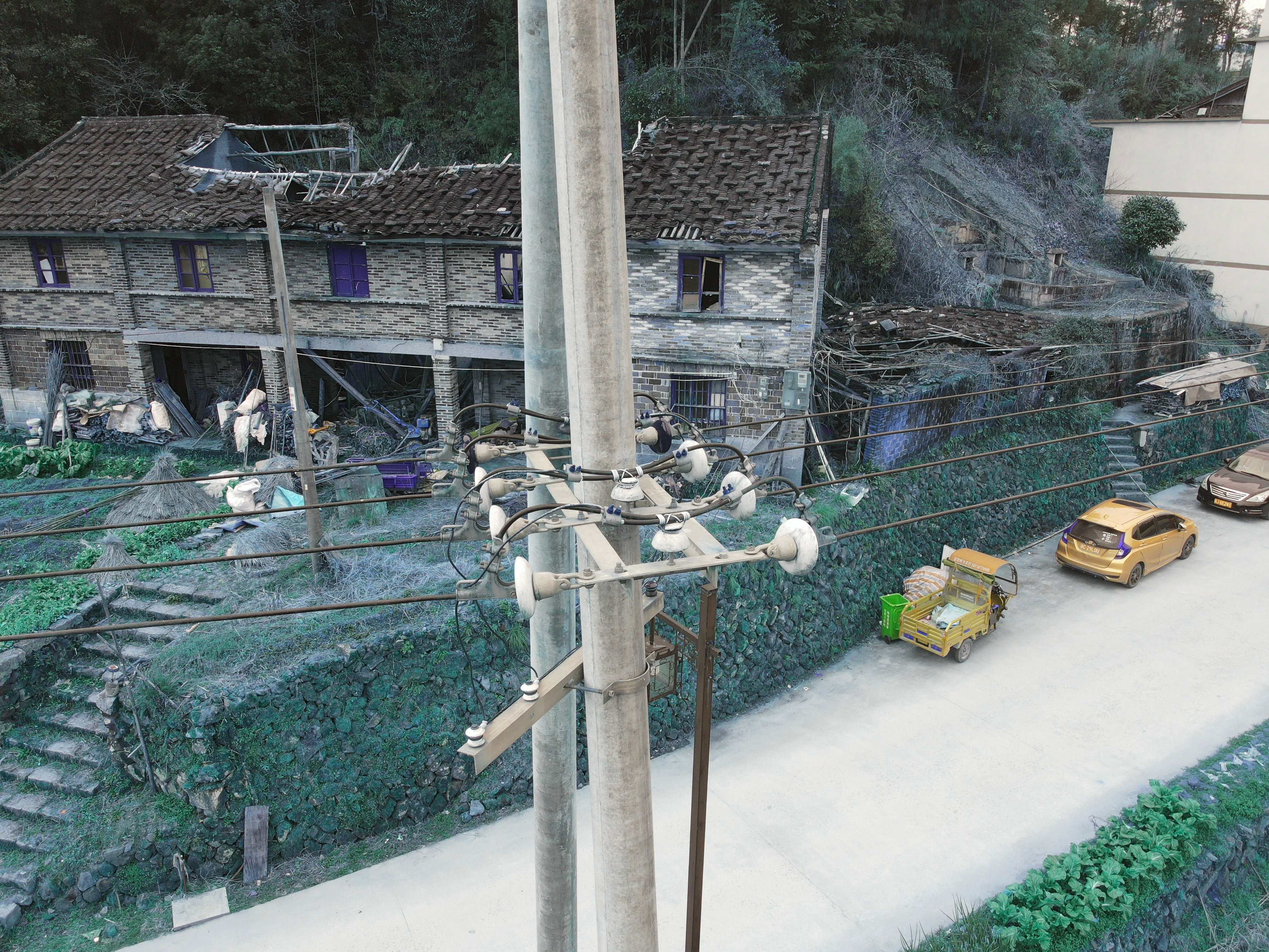severe_soiling_no_discharge_whole: (771, 518, 819, 577), (512, 555, 556, 619), (720, 471, 758, 521), (679, 439, 709, 485), (652, 524, 689, 555), (609, 474, 644, 502)
